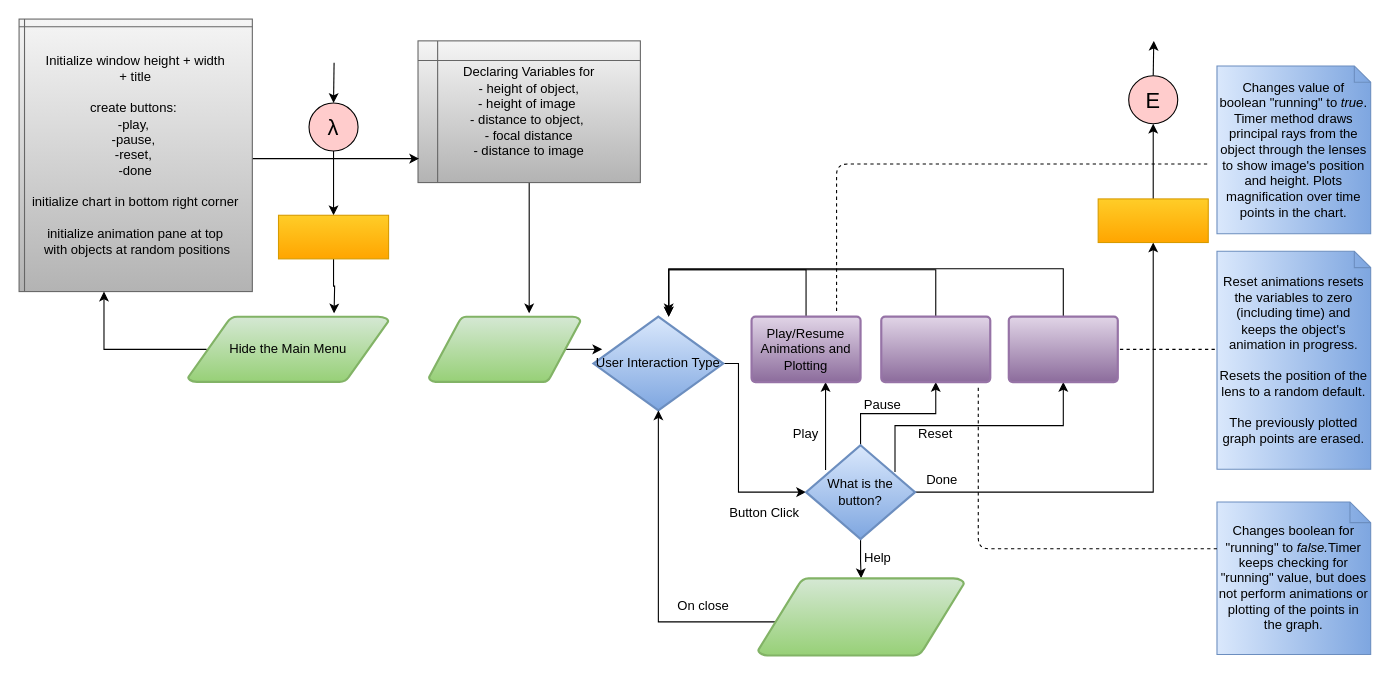
This 1390x676 diagram has some shape labels left out. The shapes that lost their labels are listed below. From the top down, each one's box as (x1, y1, x2, y2) in pixels, then its label:
(277, 214, 389, 259): No parameters passed
(1097, 198, 1208, 243): No parameters returned
(427, 315, 581, 383): Show the animation window
(880, 315, 991, 383): Pause Animations and Plotting
(1007, 315, 1118, 383): Reset Animations and Plot to Default
(756, 577, 965, 656): Display alert message with the respective help message
